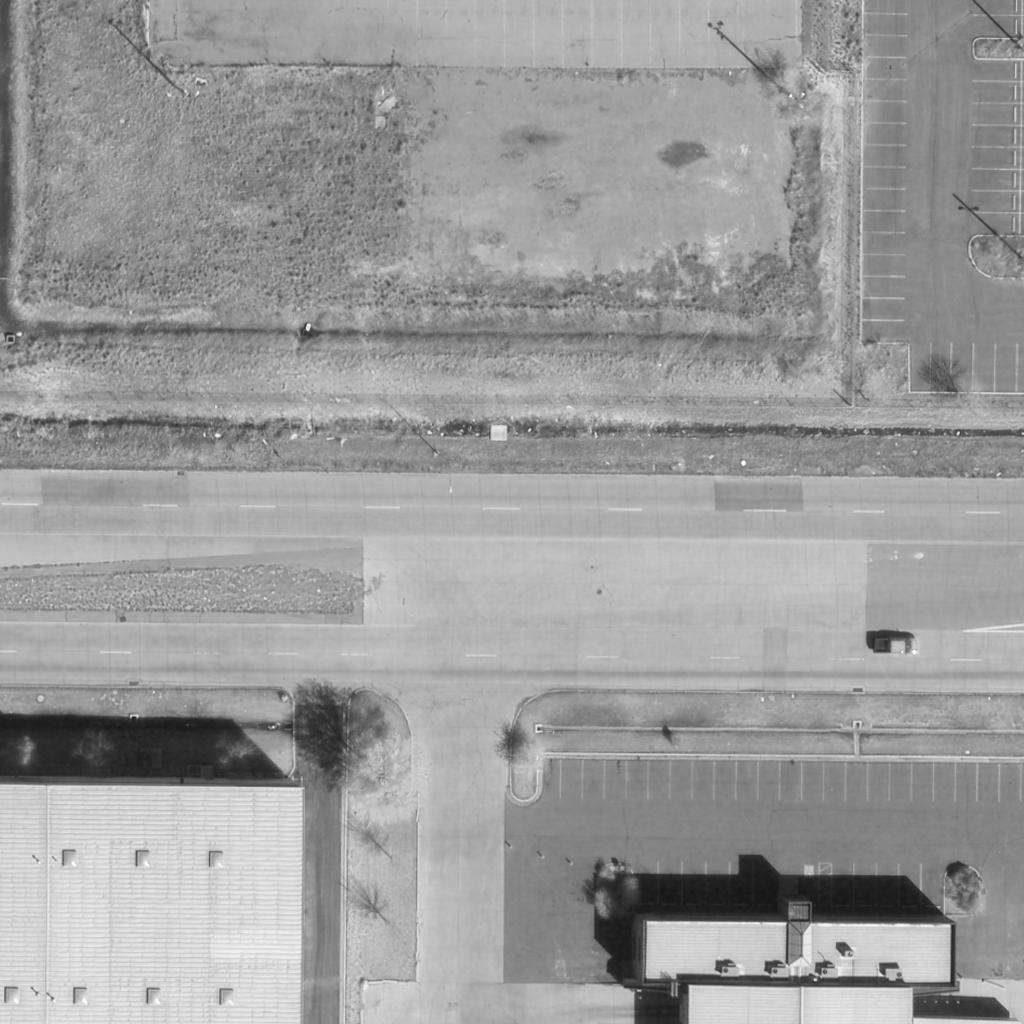vehicle: (872, 638, 920, 656)
